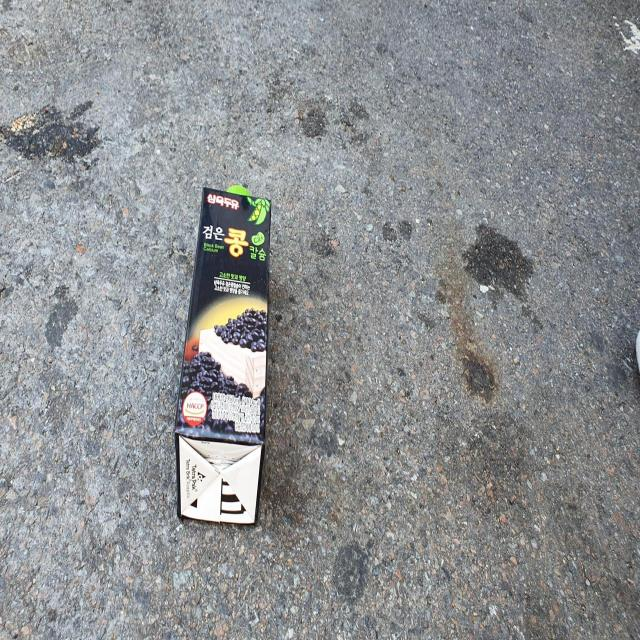paperpack: (175, 185, 271, 524)
